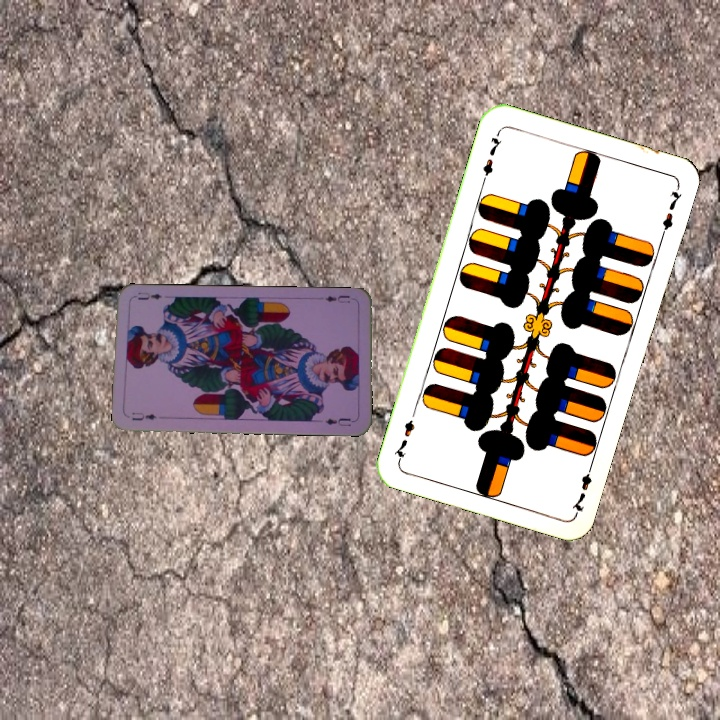E7: (567, 459, 596, 517), (478, 127, 505, 185)
EU: (321, 291, 352, 306), (128, 408, 159, 423)
